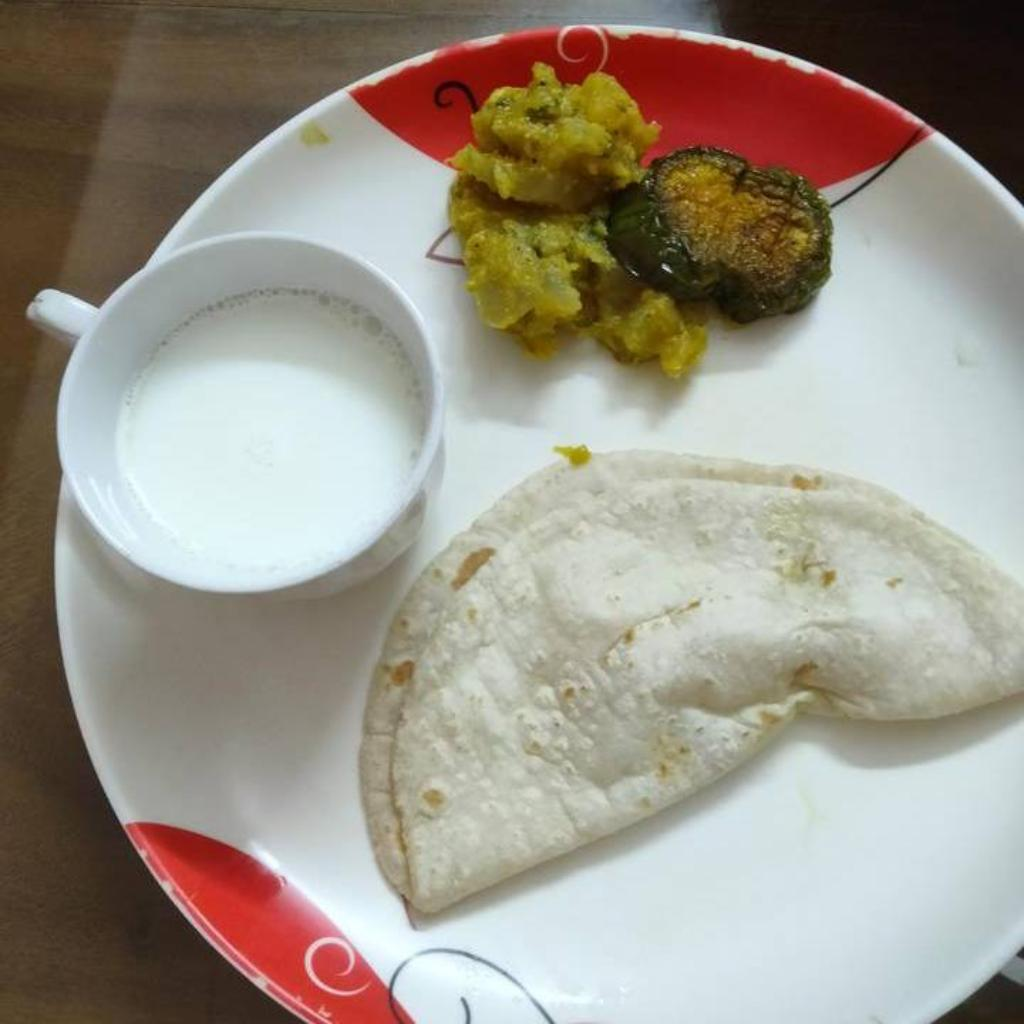begun-vaji: (608, 145, 839, 318)
kumra-vaji: (450, 62, 710, 384)
milk: (111, 289, 420, 573)
ruti: (355, 448, 1023, 915)
